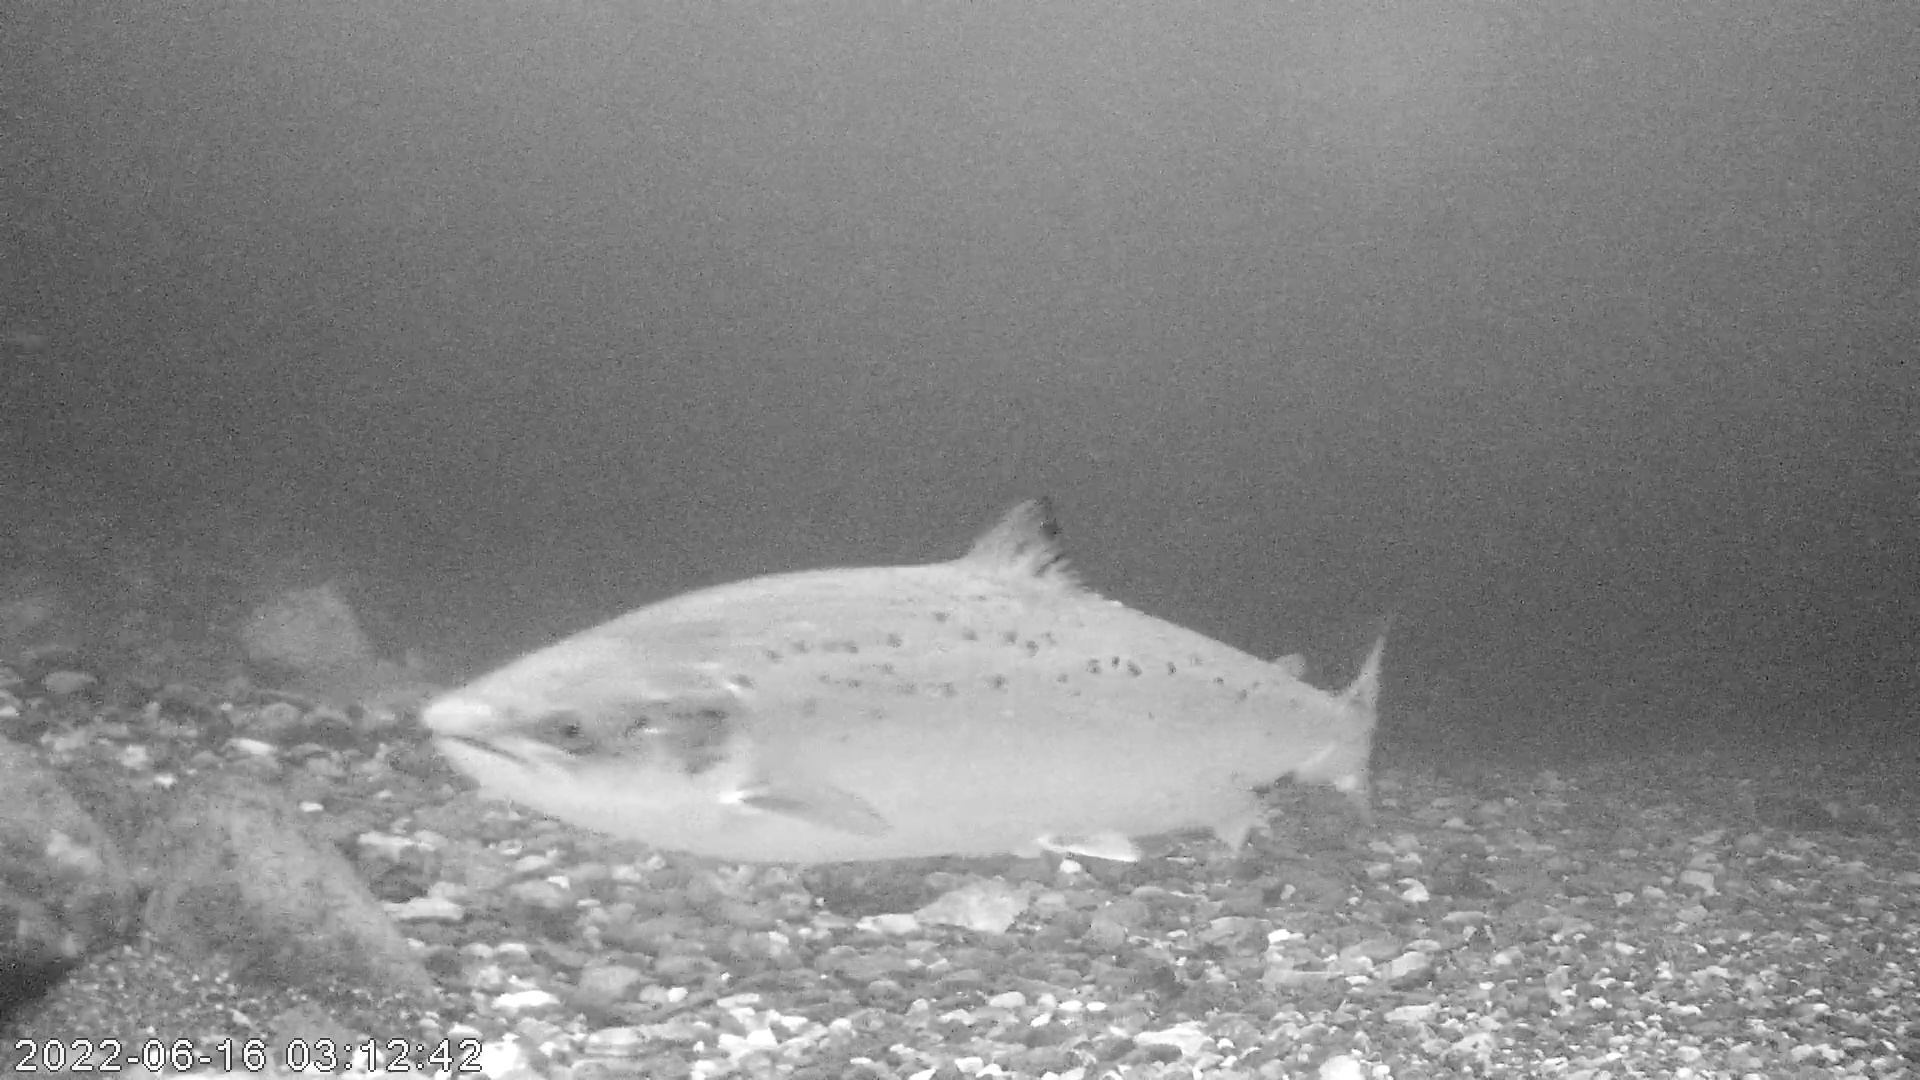salmon: (415, 492, 1393, 872)
